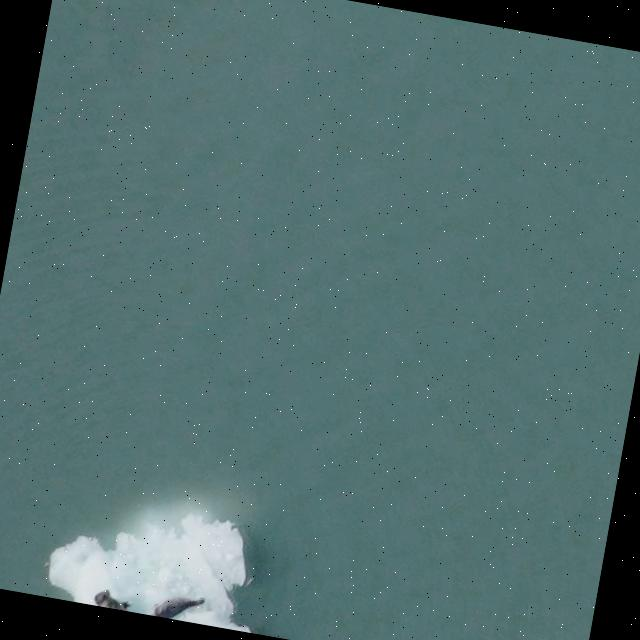seal: (148, 585, 205, 626), (92, 589, 129, 611)
